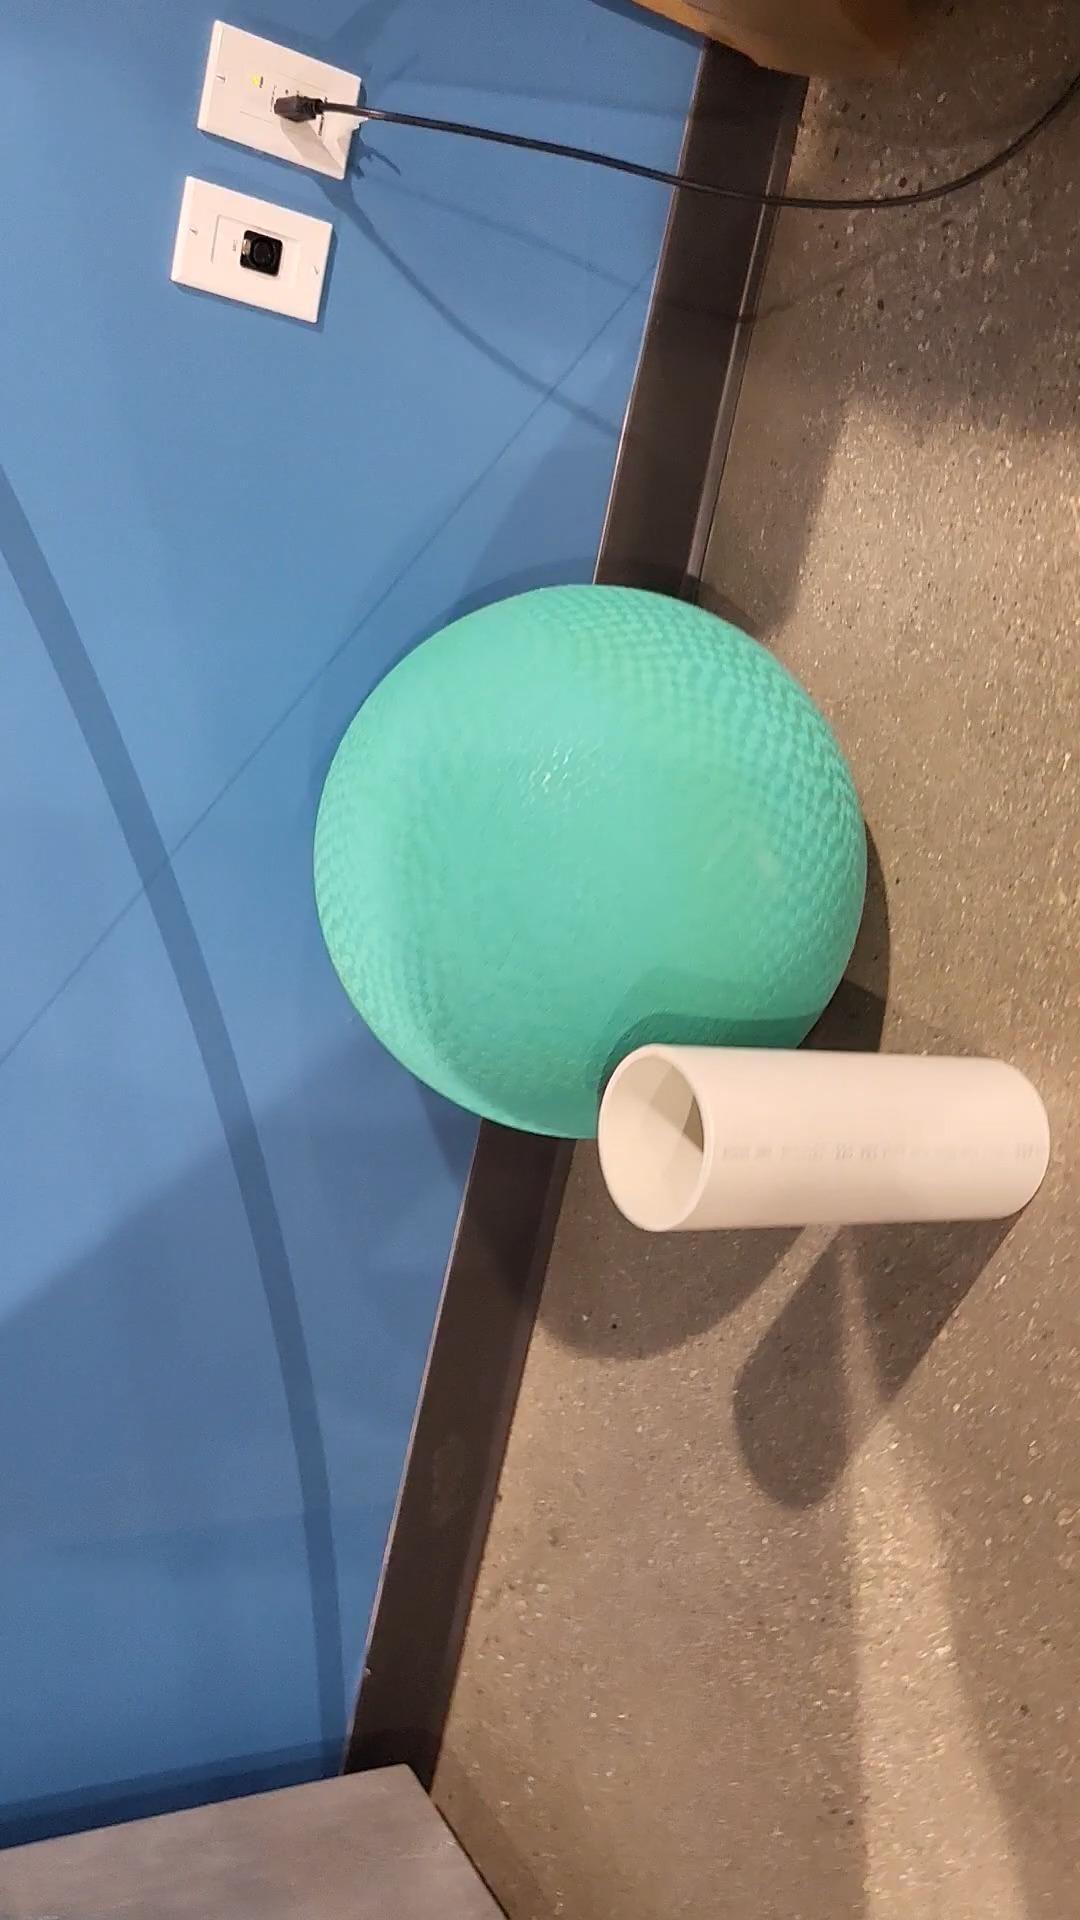algae: (316, 585, 868, 1138)
coral: (600, 1043, 1050, 1228)
